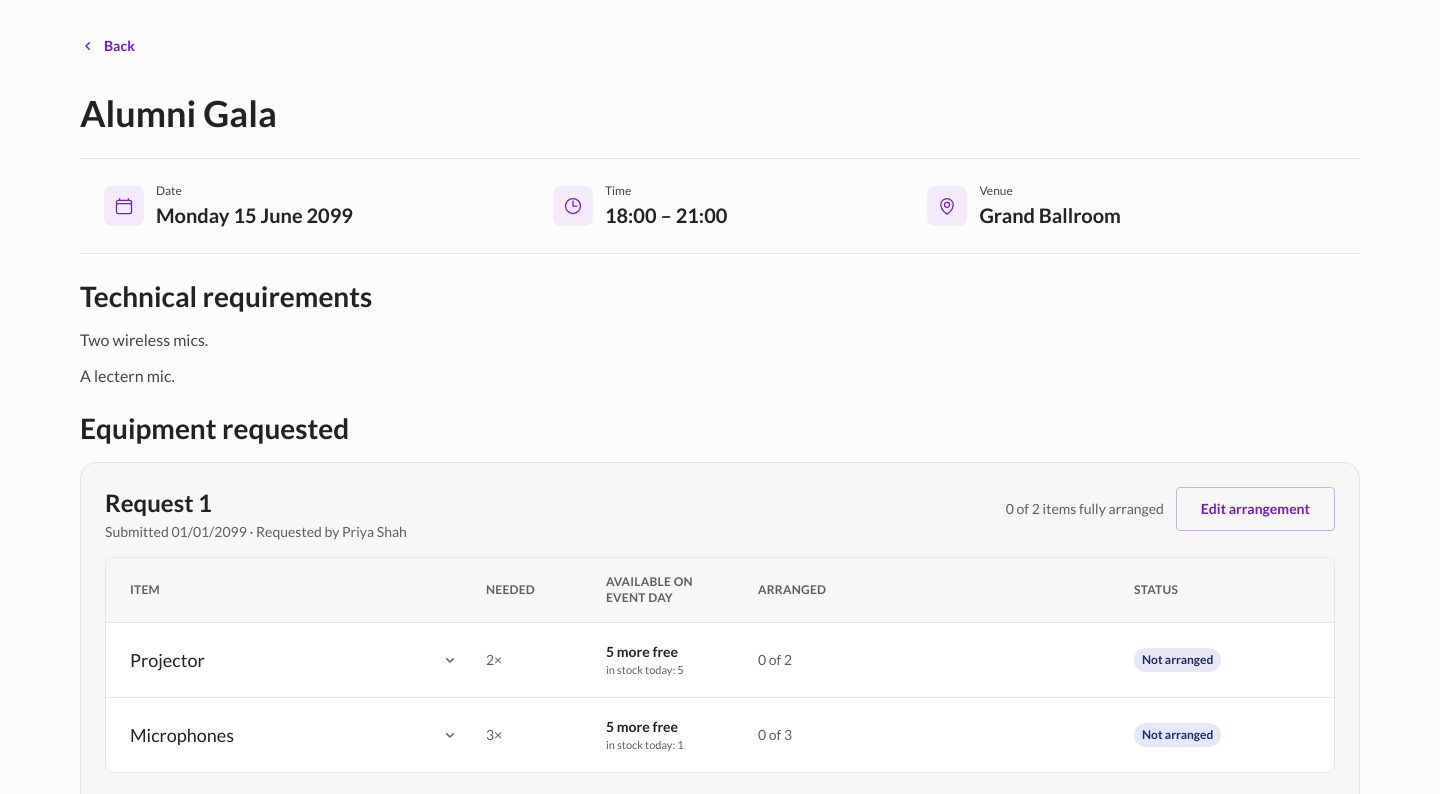
Test: EquipmentRequestDetailView › updates a request's status and tells the user the coordinator was notified
The width and height of the screenshot is (1440, 794).
What coordinates should you click on to do the following:
click the button with test id "edit-arrangement"
I would click on:
 (1255, 509)
Its box is [1176,487,1335,531].
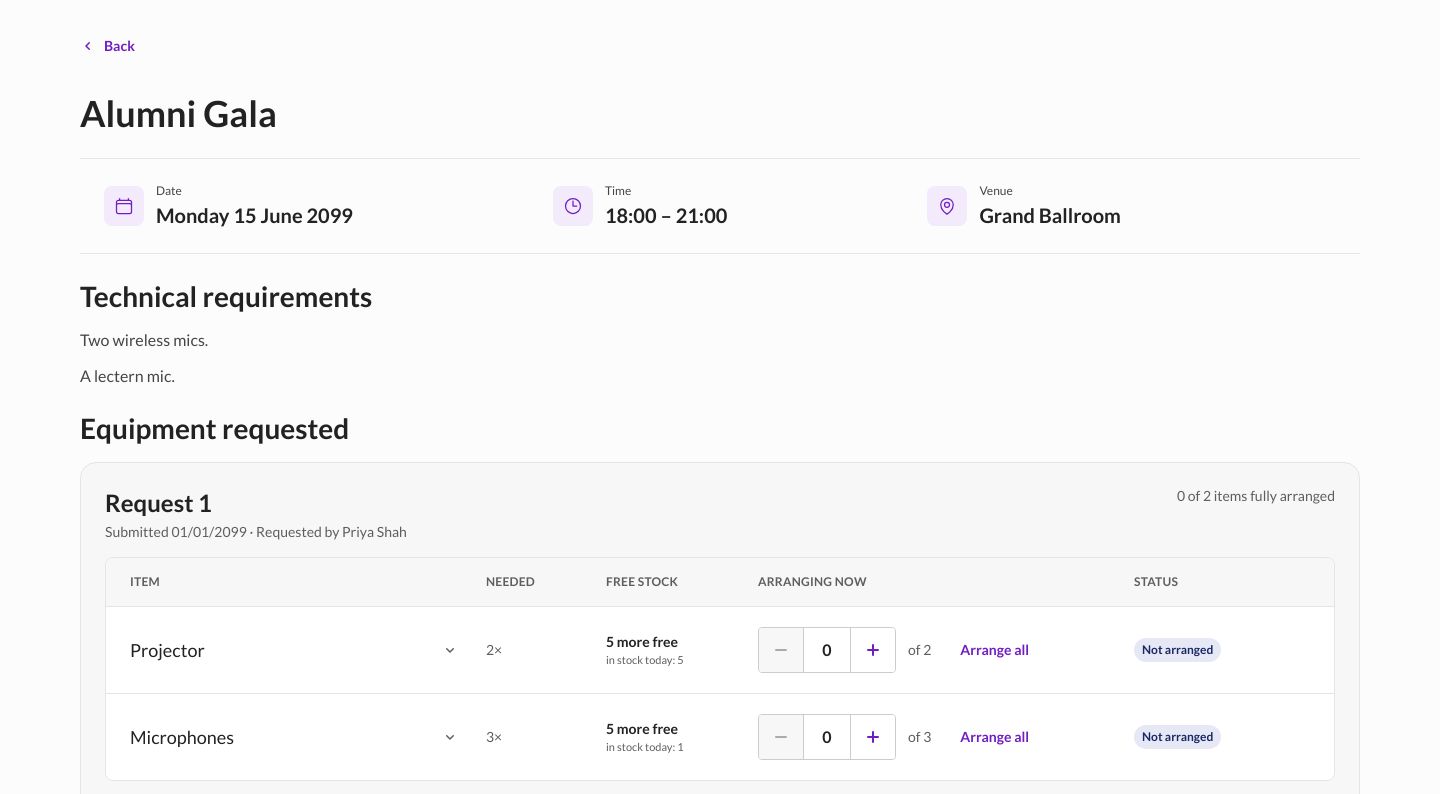
What coordinates should you click on to do the following:
click the button with test id "qty-all" in the row of "in stock today: 5"
I would click on:
 (995, 650)
Its box is [943,632,1046,668].
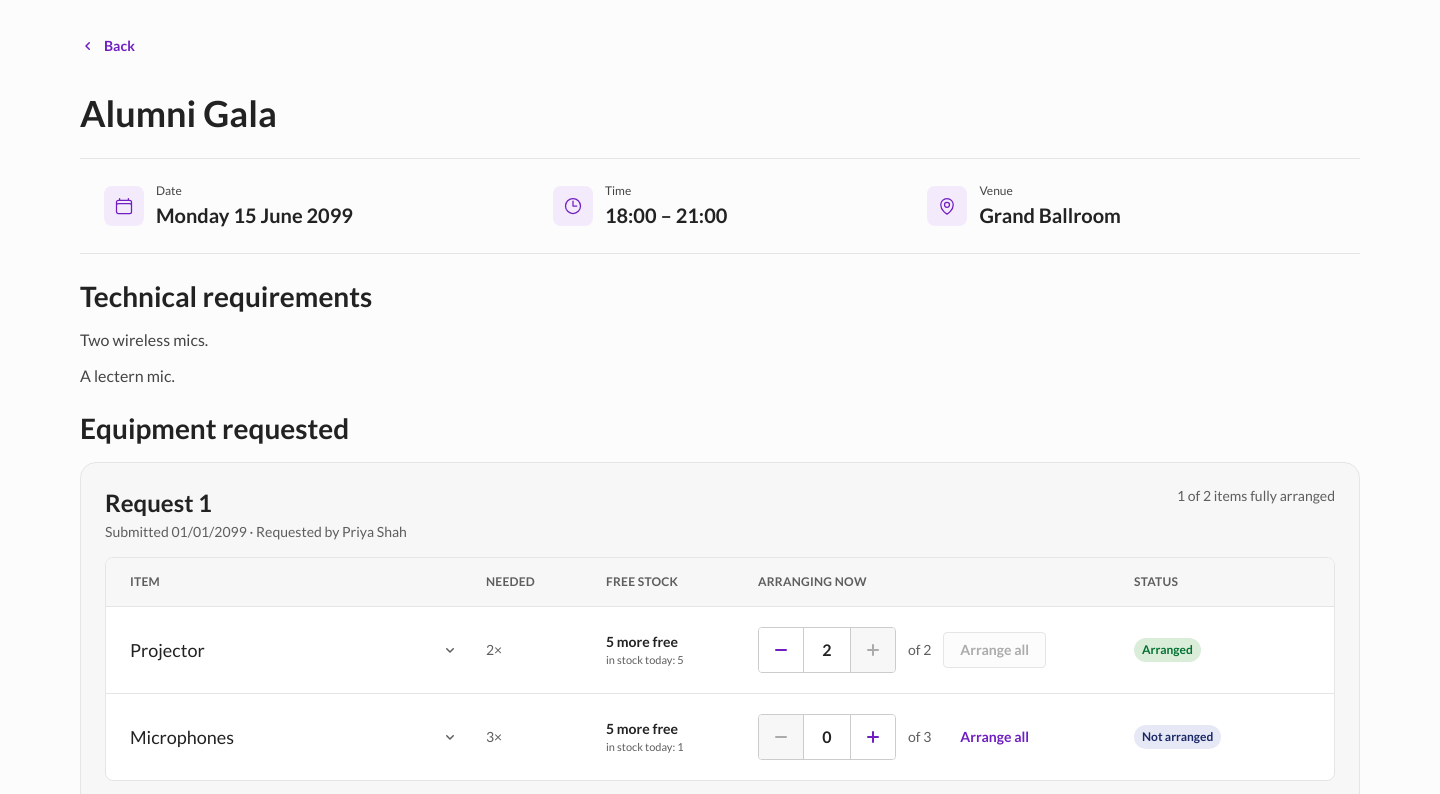
What coordinates should you click on to do the following:
click the button with test id "qty-all" next to "of 3"
I would click on:
 (995, 737)
Its box is [943,719,1046,755].
(page scrolled)
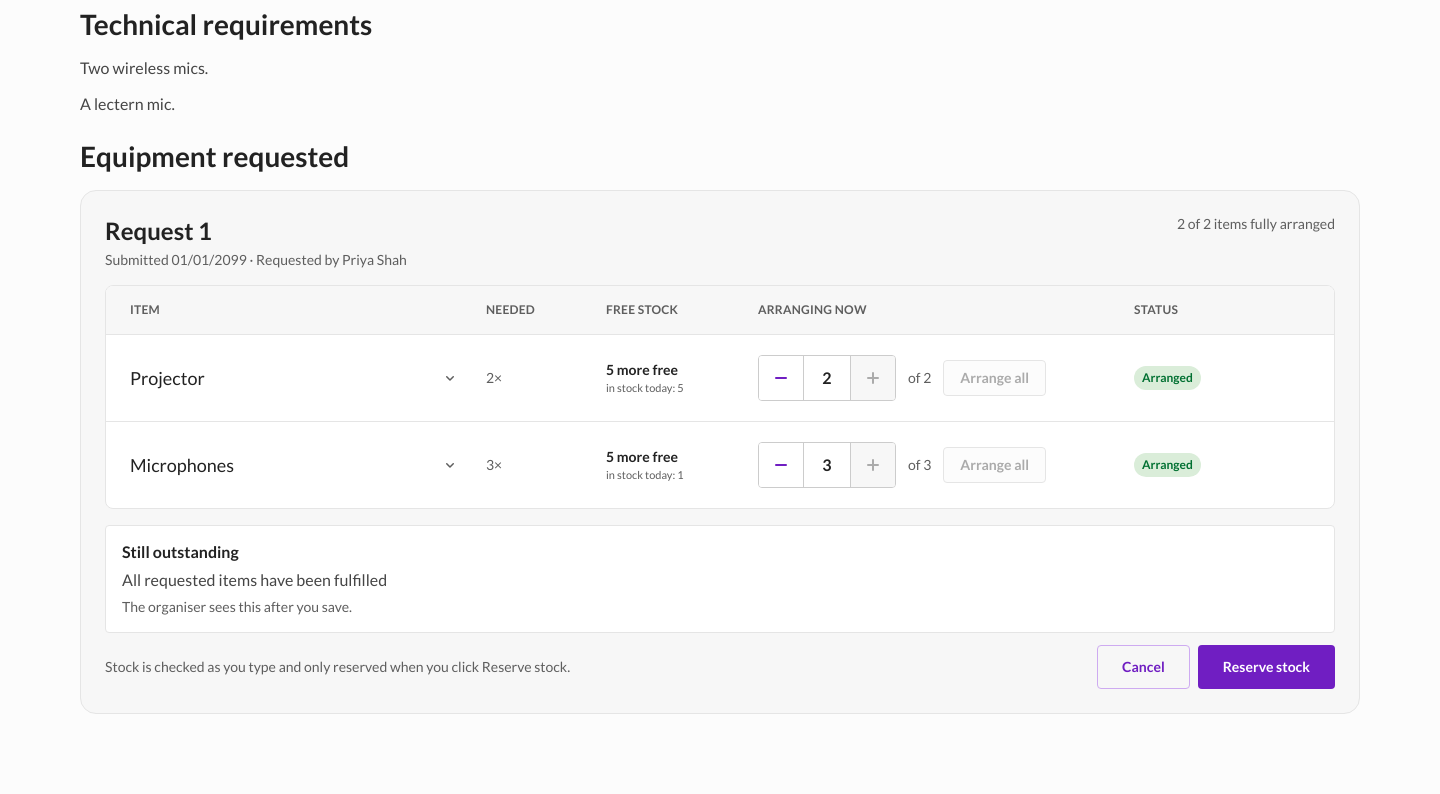
What coordinates should you click on to do the following:
click the button with test id "reserve-stock"
I would click on:
 (1266, 667)
Its box is [1198,645,1335,689].
(page scrolled)
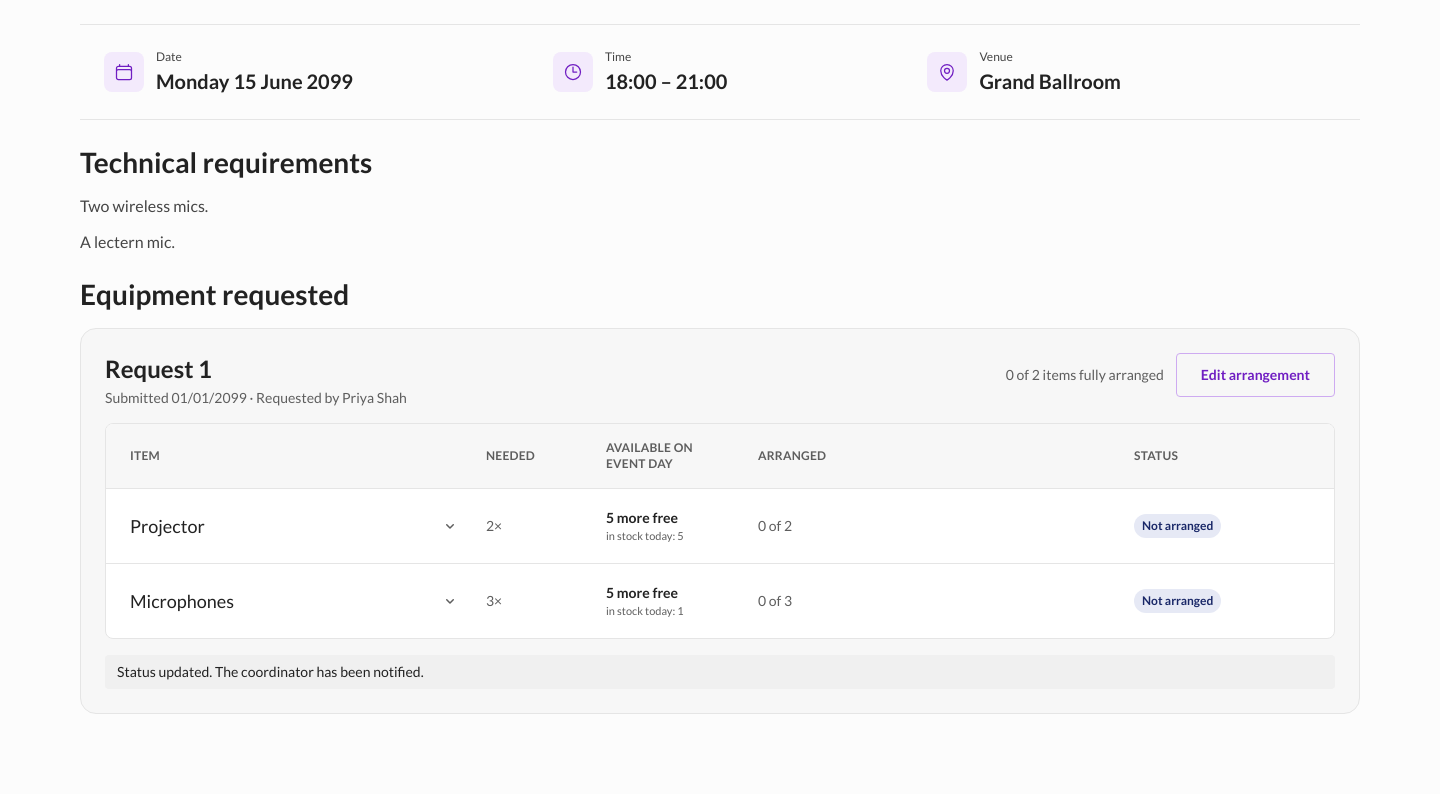
Now the message "Status updated. The coordinator has been notified." is shown, box [105,655,1335,689]
